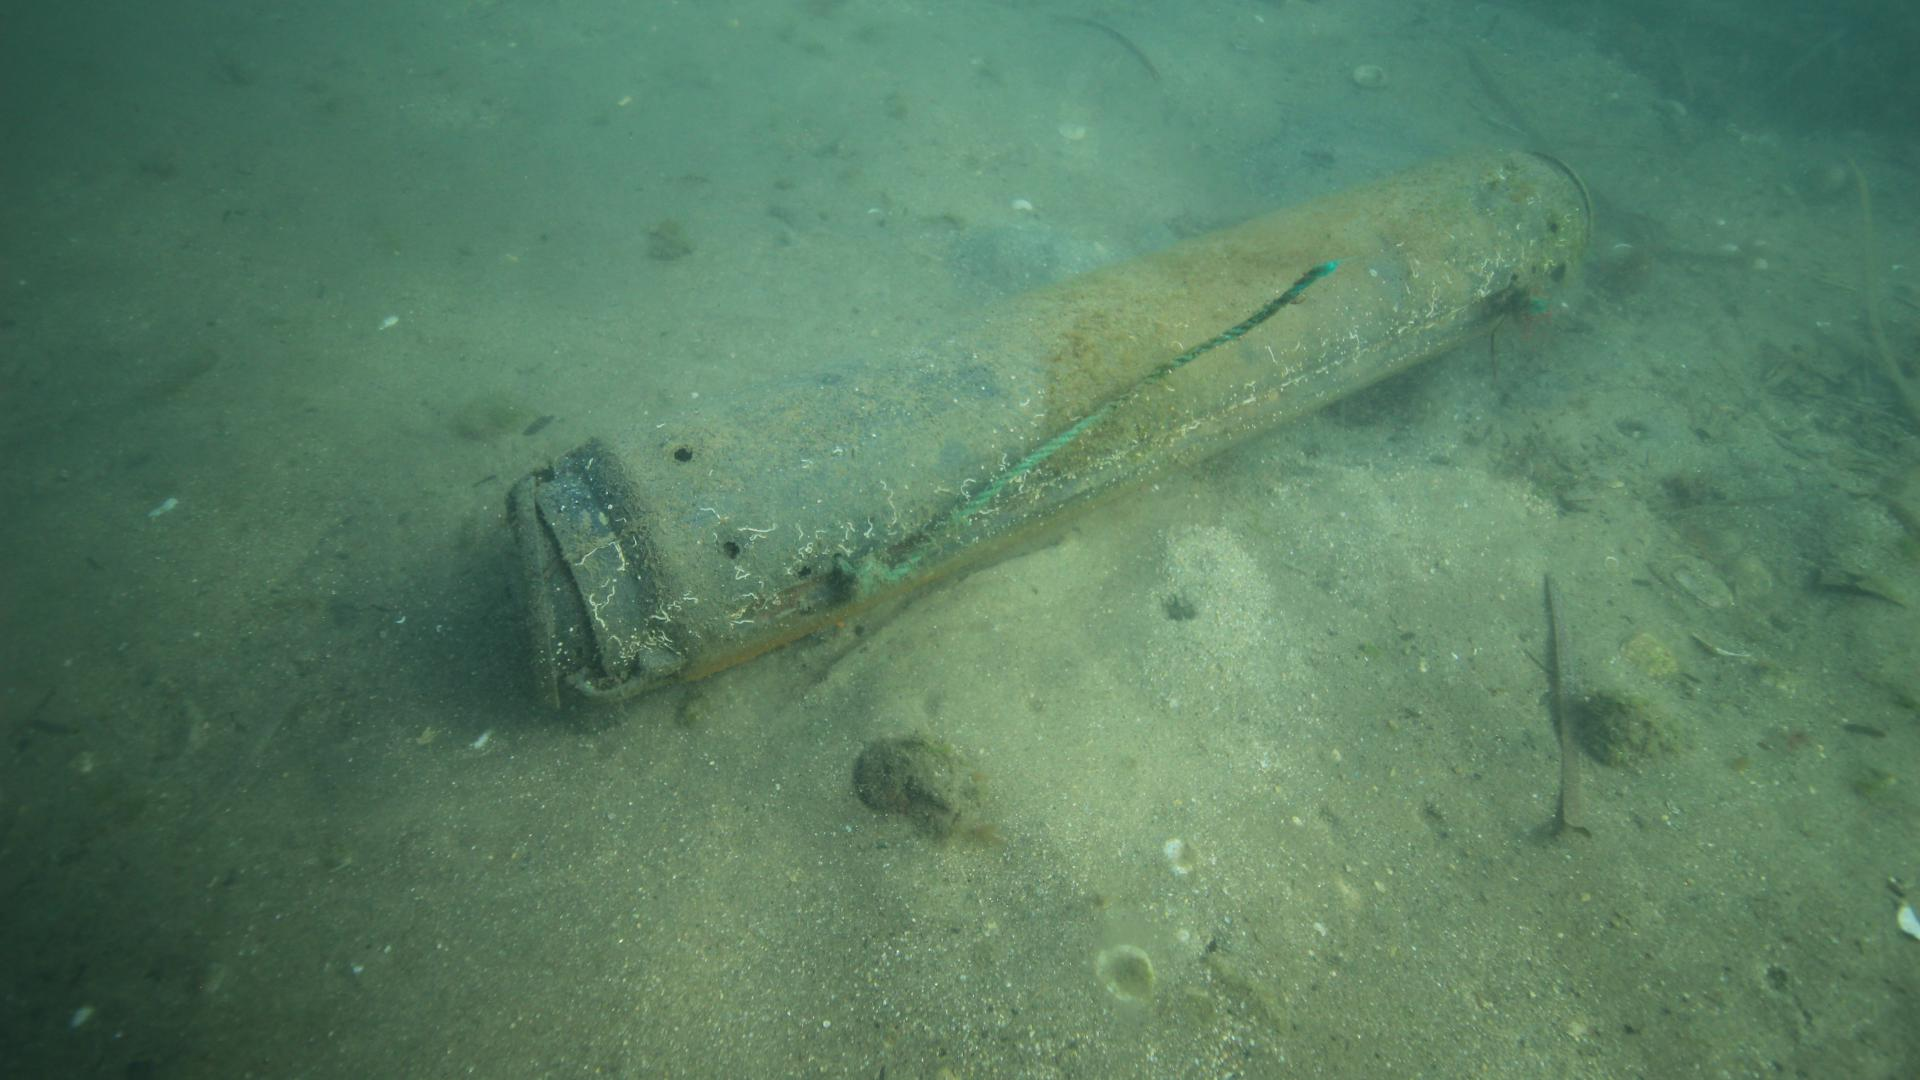eel fish trap: (506, 146, 1593, 703)
rope: (880, 255, 1341, 589)
